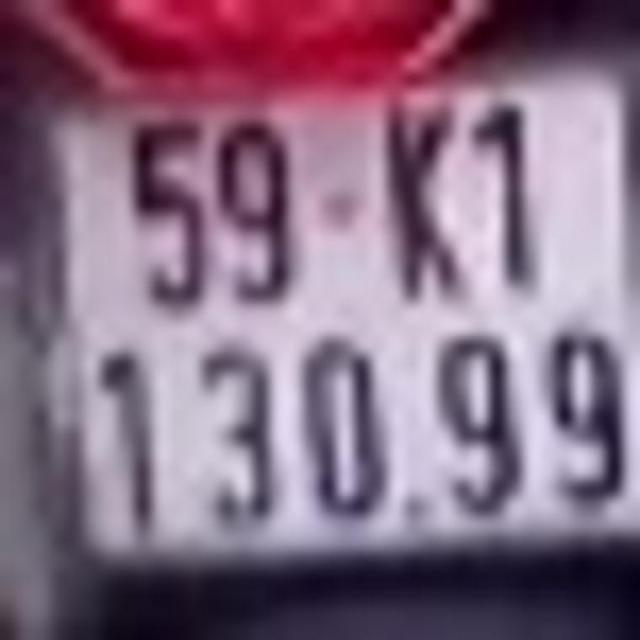0: (298, 332, 388, 524)
1: (474, 99, 534, 295), (101, 344, 158, 550)
3: (196, 342, 276, 532)
5: (128, 120, 208, 312)
9: (433, 331, 517, 520), (544, 328, 628, 517), (214, 122, 292, 304)
K: (382, 100, 469, 300)
